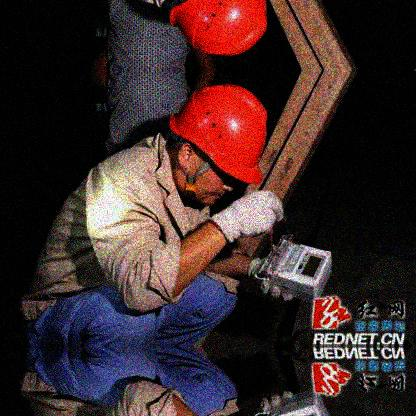helmet: (167, 83, 270, 207)
